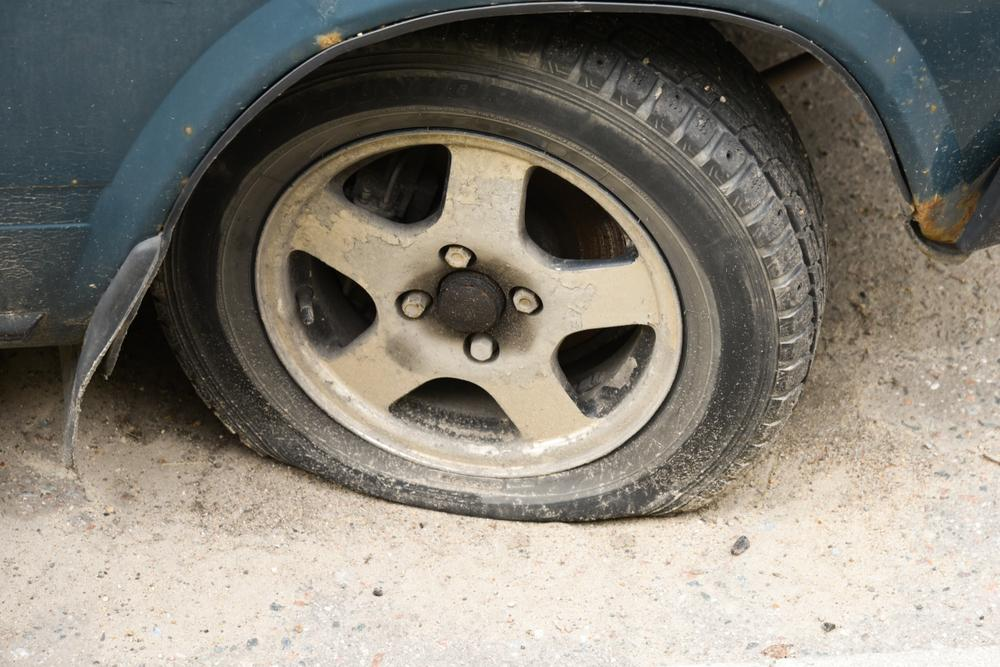tire flat: (151, 13, 824, 525)
